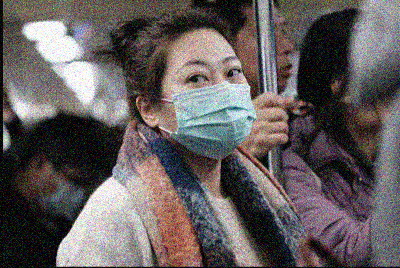with_mask: (159, 52, 257, 161), (38, 168, 93, 221)
without_mask: (237, 15, 297, 94)
